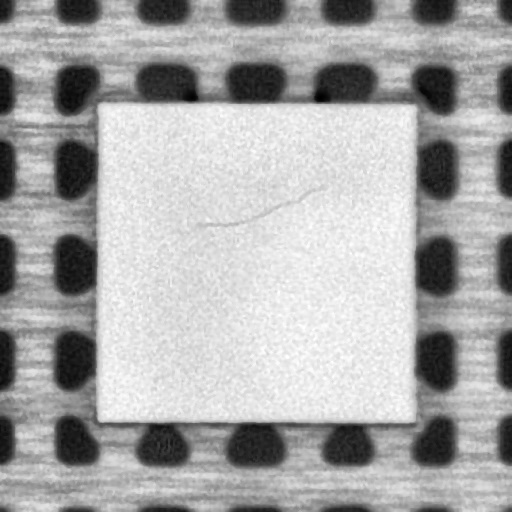DIE_CRACK: (199, 188, 328, 226)
